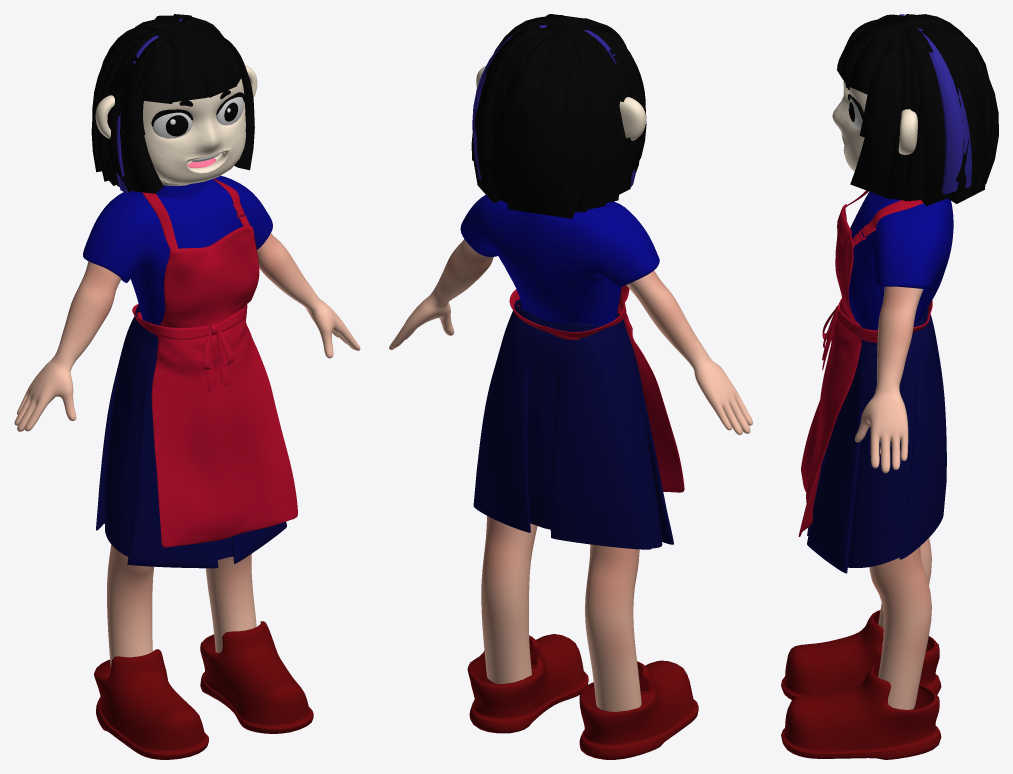
File: worker.fbx
The picture shows the model from 3 angles, left to right: view 1: azimuth 30°, elevation 25°; view 2: azimuth 150°, elevation 25°; view 3: azimuth 270°, elevation 25°; orthographic projection. The views are drawn at different scales.
Parts seen in each view (by area): view 1: MilkApron, Cube.004_polystrips, Koneko_Skirt, Circle.001, Cube.003_contours.002, Cube.003_contours, 贝塞尔曲线.022, 人頭, 贝塞尔曲线.008, 贝塞尔曲线.023, 贝塞尔曲线.018, 贝塞尔曲线.002 (+1 smaller); view 2: Koneko_Skirt, Circle.001, Cube.003_contours, Cube.004_polystrips, 贝塞尔曲线.008, Cube.003_contours.002, 贝塞尔曲线.015, MilkApron, 贝塞尔曲线.014, 贝塞尔曲线.022, 贝塞尔曲线.005, 贝塞尔曲线.012 (+1 smaller); view 3: Koneko_Skirt, Cube.004_polystrips, Circle.001, 贝塞尔曲线.002, MilkApron, Cube.003_contours, Cube.003_contours.002, 贝塞尔曲线.003, 贝塞尔曲线.005, 贝塞尔曲线.004, 贝塞尔曲线.023, 人頭 (+5 smaller).
Part boxes in pixels (x1,y1,x2,y2): MilkApron: (132, 178, 297, 547); Cube.004_polystrips: (94, 621, 313, 759); Koneko_Skirt: (96, 305, 286, 568); Circle.001: (83, 175, 272, 325); Cube.003_contours.002: (14, 233, 360, 431); Cube.003_contours: (107, 544, 256, 667); 贝塞尔曲线.022: (103, 32, 173, 193); 人頭: (143, 78, 245, 185); 贝塞尔曲线.008: (91, 28, 162, 185); 贝塞尔曲线.023: (160, 23, 236, 97); 贝塞尔曲线.018: (168, 36, 207, 102); 贝塞尔曲线.002: (196, 22, 254, 170); Koneko_Skirt: (473, 299, 673, 549); Circle.001: (460, 195, 659, 324); Cube.003_contours: (481, 516, 641, 711); Cube.004_polystrips: (467, 634, 698, 759); 贝塞尔曲线.008: (540, 27, 631, 212); Cube.003_contours.002: (389, 239, 752, 434); 贝塞尔曲线.015: (506, 26, 574, 218); MilkApron: (509, 285, 684, 492); 贝塞尔曲线.014: (483, 24, 563, 203); 贝塞尔曲线.022: (570, 24, 646, 174); 贝塞尔曲线.005: (473, 26, 546, 203); 贝塞尔曲线.012: (471, 31, 551, 160); Koneko_Skirt: (807, 307, 946, 573); Cube.004_polystrips: (781, 610, 941, 759); Circle.001: (848, 191, 953, 330); 贝塞尔曲线.002: (850, 34, 938, 201); MilkApron: (798, 190, 932, 536); Cube.003_contours: (869, 447, 931, 709); Cube.003_contours.002: (855, 286, 923, 473); 贝塞尔曲线.003: (902, 26, 951, 206); 贝塞尔曲线.005: (921, 27, 987, 203); 贝塞尔曲线.004: (917, 28, 971, 194); 贝塞尔曲线.023: (837, 15, 911, 86); 人頭: (832, 81, 867, 171).
Size of the model in its own units: 347 by 662 by 189.
